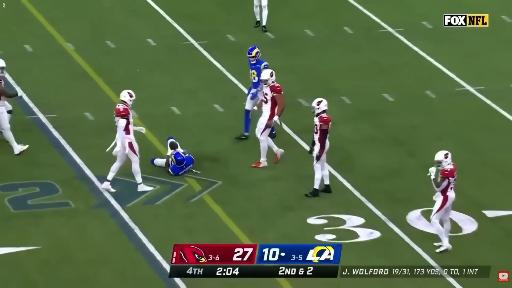Helmet: (260, 69, 276, 86), (435, 151, 451, 167), (312, 98, 327, 114), (120, 90, 135, 105), (171, 151, 185, 166), (248, 46, 260, 63), (0, 59, 6, 75)
Jersey: (260, 83, 282, 120), (115, 103, 134, 141), (314, 114, 331, 154), (249, 59, 268, 89), (440, 163, 456, 195), (169, 155, 194, 175), (0, 92, 5, 106)
Player: (102, 90, 153, 191), (252, 70, 285, 167), (236, 46, 268, 139), (429, 151, 456, 252), (0, 60, 28, 154), (306, 99, 331, 197), (151, 137, 194, 175), (254, 0, 267, 32)
